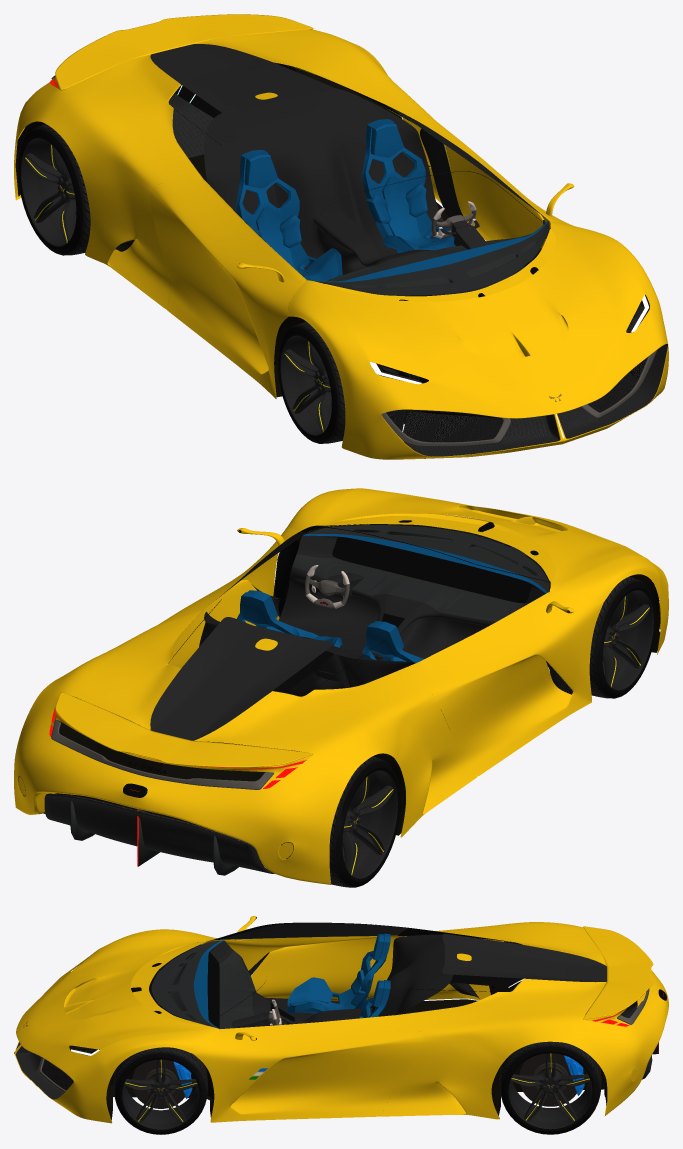
The model's file is modern_supercar-transformed.glb.
3 renders of one model, top to bottom at view 1: azimuth 30°, elevation 25°; view 2: azimuth 150°, elevation 25°; view 3: azimuth 270°, elevation 25°, orthographic. The views are drawn at different scales.
Parts seen in each view (by area): view 1: MainBody_10, InteriorMain_50, Doors_11, _chairs_38, Wing_26, FrontCarbonFiber_34, FrontairIntake_28, RubberTire.001_1, RubberTire_58, Rims.001_2, CarUnder_9, RimPentagonFlower.001_4 (+7 smaller); view 2: MainBody_10, Doors_11, InteriorMain_50, RearCarbonFiberGrille_20, Wing_26, InteriorBigScreen_49, CarUnder_9, _chairs_38, FrontBonnetCover_14, RubberTire.001_1, RubberTire_58, Rims.001_2 (+8 smaller); view 3: MainBody_10, Doors_11, InteriorMain_50, Wing_26, _chairs_38, RubberTire.001_1, RubberTire_58, CarUnder_9, RimPentagonFlower.001_4, Rims.001_2, RimPentagonFlower_61, Rims_59 (+9 smaller).
Boxes of the visible parts, bbox=[...] form: MainBody_10: bbox=[14, 29, 668, 459]; InteriorMain_50: bbox=[204, 88, 549, 300]; Doors_11: bbox=[150, 105, 574, 398]; _chairs_38: bbox=[236, 119, 455, 281]; Wing_26: bbox=[55, 14, 313, 90]; FrontCarbonFiber_34: bbox=[404, 344, 667, 456]; FrontairIntake_28: bbox=[386, 357, 647, 442]; RubberTire.001_1: bbox=[18, 124, 90, 255]; RubberTire_58: bbox=[278, 316, 633, 443]; Rims.001_2: bbox=[21, 138, 76, 246]; CarUnder_9: bbox=[15, 63, 649, 458]; RimPentagonFlower.001_4: bbox=[24, 143, 76, 243]; MainBody_10: bbox=[14, 488, 668, 884]; Doors_11: bbox=[159, 526, 603, 776]; InteriorMain_50: bbox=[199, 525, 549, 696]; RearCarbonFiberGrille_20: bbox=[44, 793, 274, 873]; Wing_26: bbox=[55, 692, 313, 767]; InteriorBigScreen_49: bbox=[332, 537, 531, 602]; CarUnder_9: bbox=[18, 520, 660, 858]; _chairs_38: bbox=[237, 590, 424, 662]; FrontBonnetCover_14: bbox=[327, 513, 555, 581]; RubberTire.001_1: bbox=[43, 756, 400, 887]; RubberTire_58: bbox=[589, 576, 656, 698]; Rims.001_2: bbox=[342, 770, 397, 878]; MainBody_10: bbox=[14, 922, 668, 1123]; Doors_11: bbox=[193, 922, 423, 1122]; InteriorMain_50: bbox=[151, 934, 453, 1029]; Wing_26: bbox=[583, 926, 653, 1019]; _chairs_38: bbox=[287, 933, 390, 1018]; RubberTire.001_1: bbox=[499, 1041, 601, 1134]; RubberTire_58: bbox=[113, 1047, 207, 1134]; CarUnder_9: bbox=[69, 941, 607, 1119]; RimPentagonFlower.001_4: bbox=[510, 1053, 590, 1121]; Rims.001_2: bbox=[508, 1053, 592, 1129]; RimPentagonFlower_61: bbox=[124, 1059, 197, 1122]; Rims_59: bbox=[122, 1059, 199, 1129].
Bounding box in the file's own units: 2.11 × 1.06 × 4.72.
35 materials, 4 textured.
